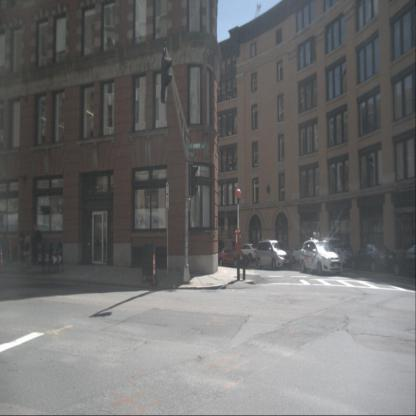human-pedestrian-adult: (32, 225, 42, 265), (23, 228, 32, 269), (0, 232, 8, 270)
movable_object-trafficcone: (150, 247, 158, 288), (0, 244, 6, 274), (8, 237, 14, 262)
vehicle-car: (300, 237, 342, 276), (352, 242, 396, 272), (255, 240, 294, 271), (392, 244, 416, 275), (218, 247, 249, 268), (326, 243, 354, 266), (292, 242, 318, 265), (233, 244, 259, 261)
